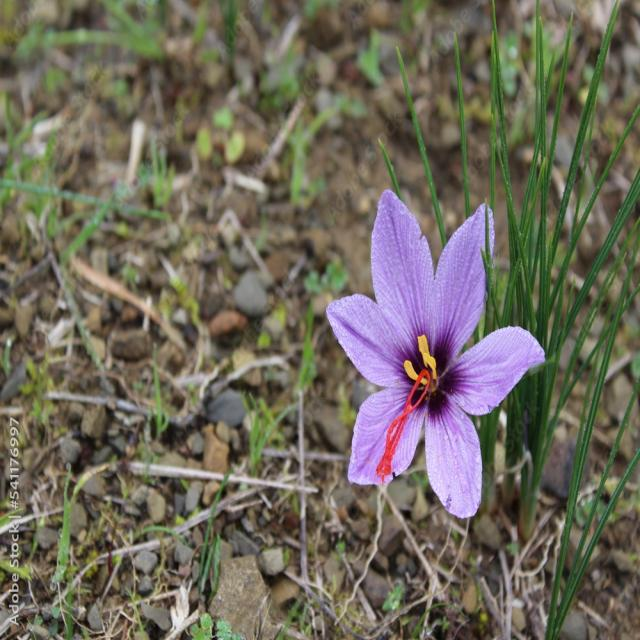saffron open: (326, 189, 545, 517)
